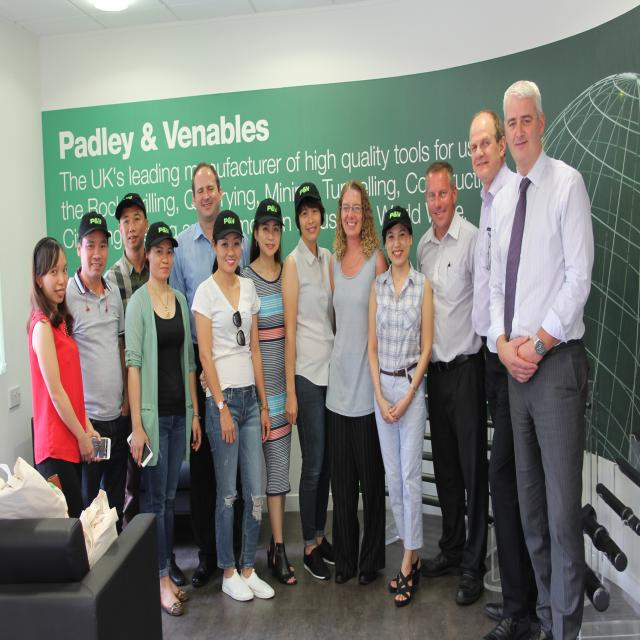body: (488, 80, 596, 640), (468, 108, 540, 640), (170, 162, 251, 590), (190, 209, 276, 603), (416, 162, 490, 608), (124, 221, 202, 617), (325, 178, 397, 587), (367, 203, 434, 605), (239, 199, 298, 587), (60, 211, 130, 537), (282, 181, 336, 579), (28, 237, 102, 520), (102, 192, 151, 319)
